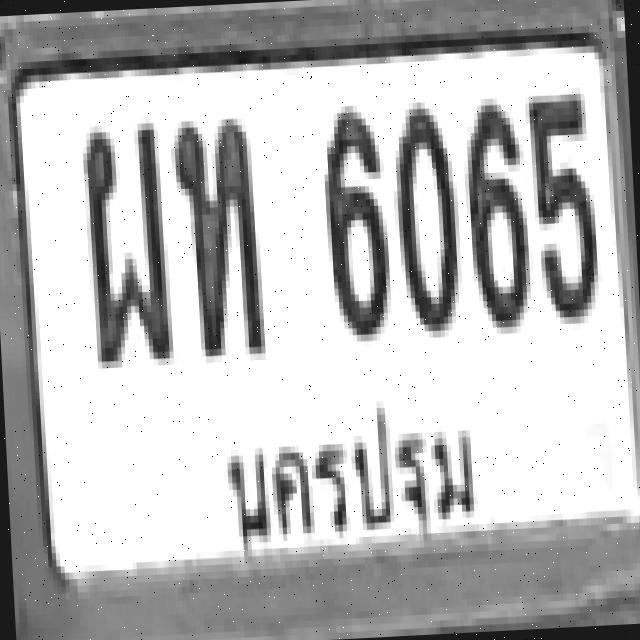0: (388, 101, 461, 333)
32ThorThaHan: (170, 113, 264, 360)
37PhorPhueng: (77, 120, 170, 366)
5: (526, 94, 600, 328)
6: (317, 101, 389, 340), (461, 97, 528, 329)
NakhonPathom: (213, 382, 497, 562)
